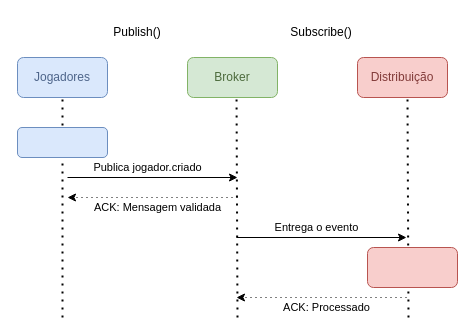
Some shapes in this 475 by 336 pixel diagram are drawn without their labels. The centre of each missing label's shape, as x and y in pixels:
Salva os jogadores: the point at 62,142
Sorteia 5 Pokemóns salva na própria BD: the point at 412,267
